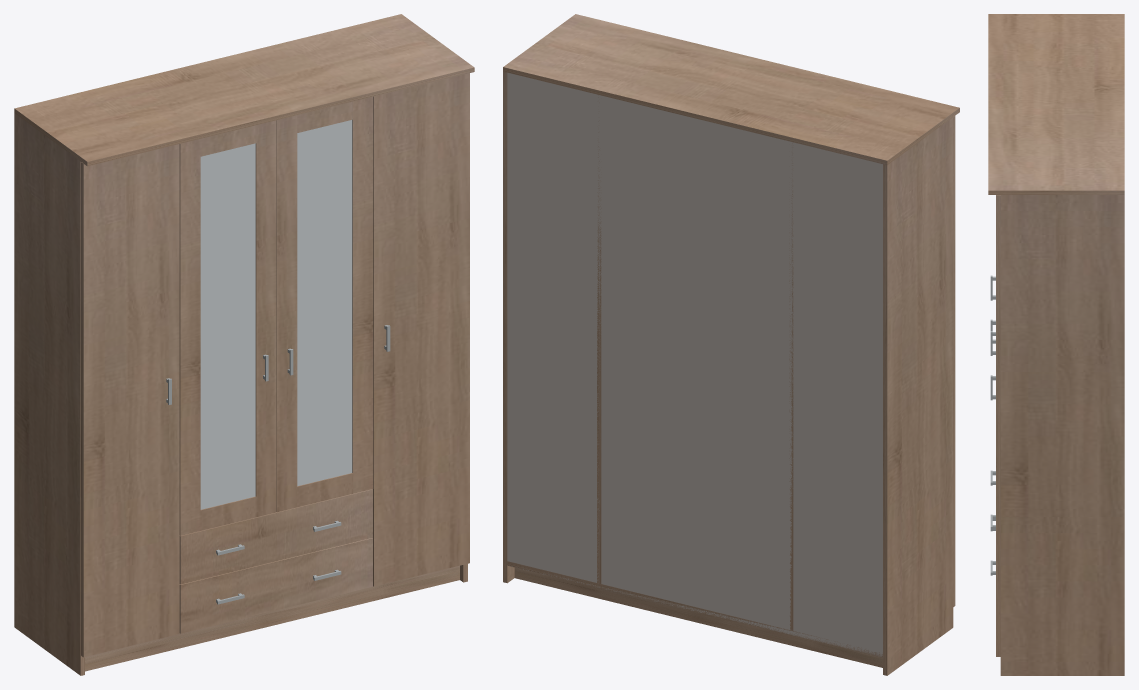
Rendered from hana_ar.glb.
3 renders of one model, left to right at view 1: azimuth 30°, elevation 25°; view 2: azimuth 150°, elevation 25°; view 3: azimuth 270°, elevation 25°, orthographic. The views are drawn at different scales.
Parts seen in each view (by area): view 1: korpus, krilo_1, krilo_4, krilo_2, krilo_3, fioka_dole, fioka_gore; view 2: korpus, krilo_1; view 3: korpus, krilo_4.
Part boxes in pixels (left/top/right/bottom): korpus: left=14, top=14, right=474, bottom=675; krilo_1: left=81, top=144, right=179, bottom=657; krilo_4: left=373, top=73, right=469, bottom=586; krilo_2: left=179, top=120, right=276, bottom=535; krilo_3: left=276, top=97, right=373, bottom=512; fioka_dole: left=179, top=538, right=372, bottom=633; fioka_gore: left=179, top=489, right=372, bottom=584; korpus: left=503, top=14, right=959, bottom=675; krilo_1: left=953, top=116, right=955, bottom=606; korpus: left=988, top=14, right=1124, bottom=675; krilo_4: left=990, top=195, right=1000, bottom=656.
Bounding box in the file's own units: 1.6 × 2.05 × 0.523.
Materials: 6 (2 with a texture image).
